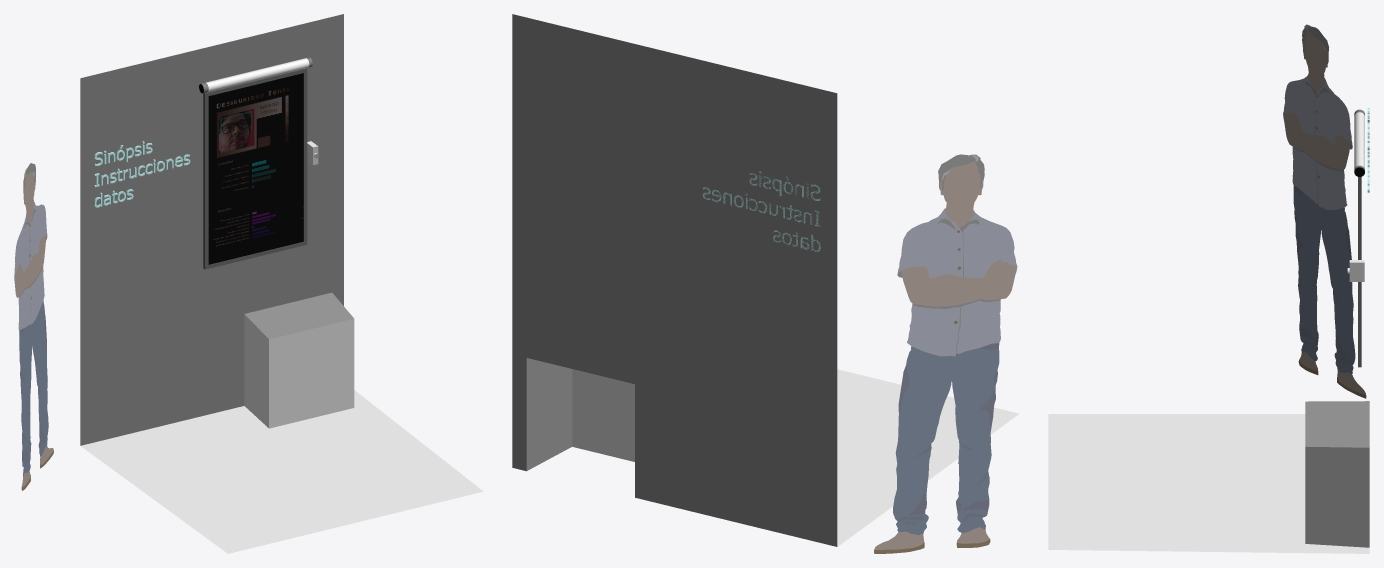
The model's file is Esquma_de_montaje_DT.glb.
The picture shows the model from 3 angles, left to right: view 1: azimuth 30°, elevation 25°; view 2: azimuth 150°, elevation 25°; view 3: azimuth 270°, elevation 25°; orthographic projection. The views are drawn at different scales.
Visible parts, largest first — view 1: Root Node, Group#246, Niraj, Sinópsis Instru; view 2: Root Node, Niraj, Sinópsis Instru; view 3: Root Node, Niraj, Group#246.
Part boxes in pixels (x1,y1,x2,y2): Root Node: (80,14,483,553); Group#246: (203,68,307,269); Niraj: (14,163,53,490); Sinópsis Instru: (94,141,190,207); Root Node: (512,14,1019,546); Niraj: (874,154,1017,553); Sinópsis Instru: (702,171,820,251); Root Node: (1048,109,1369,553); Niraj: (1283,24,1366,398); Group#246: (1358,177,1361,367).
Bounding box in the file's own units: 2.17 × 2.07 × 1.5.
1362 materials, 1 textured.
